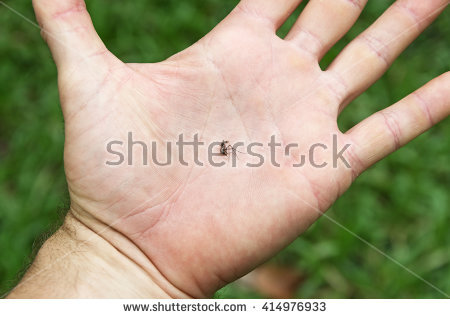palm: (100, 55, 338, 228)
